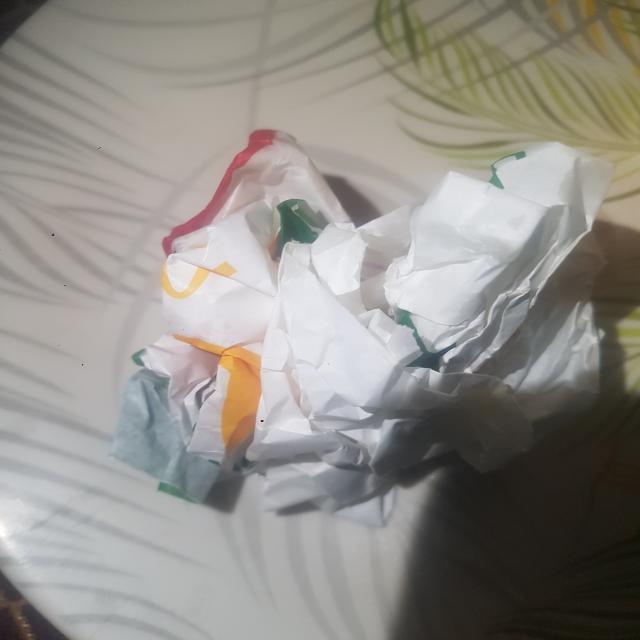electronic: (111, 131, 616, 526)
